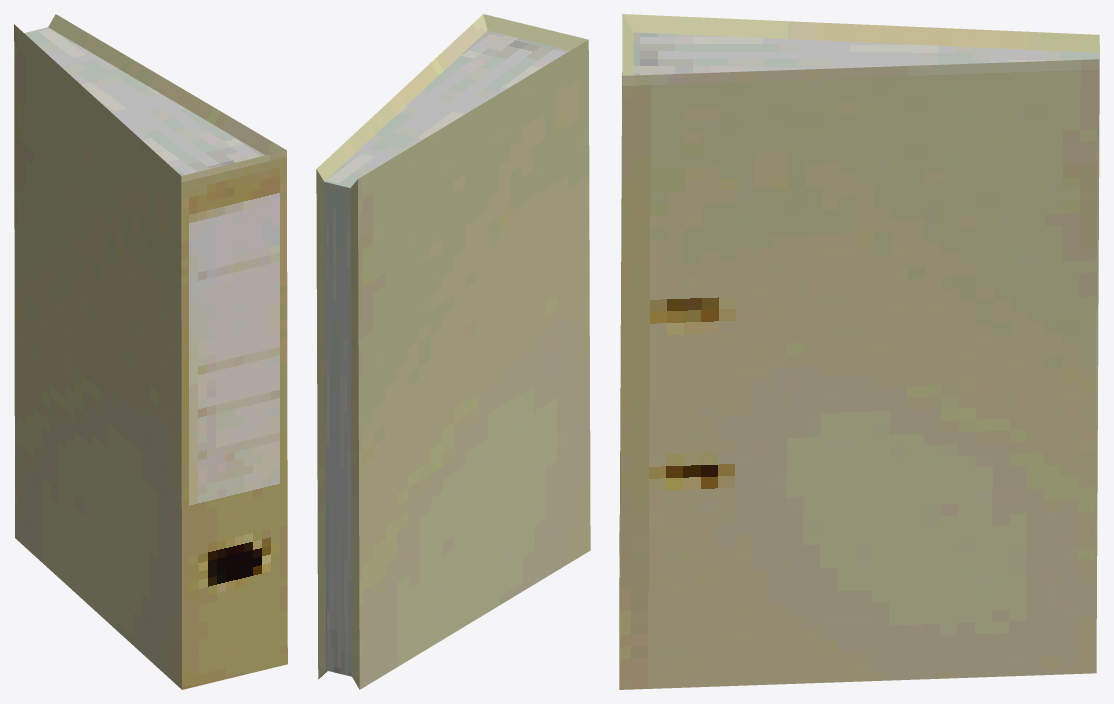
File: file_binder_alt.glb
3 views of the same model, side by side, from view 1: azimuth 30°, elevation 25°; view 2: azimuth 150°, elevation 25°; view 3: azimuth 270°, elevation 25° (orthographic). The views are drawn at different scales.
Parts seen in each view (by area): view 1: file_binder_alt; view 2: file_binder_alt; view 3: file_binder_alt.
Part boxes in pixels (left/top/right/bottom): file_binder_alt: left=14, top=14, right=287, bottom=689; file_binder_alt: left=316, top=14, right=590, bottom=689; file_binder_alt: left=619, top=14, right=1099, bottom=689.
Bounding box in the file's own units: 0.0915 × 0.4239 × 0.2995.
1 material, 1 textured.
